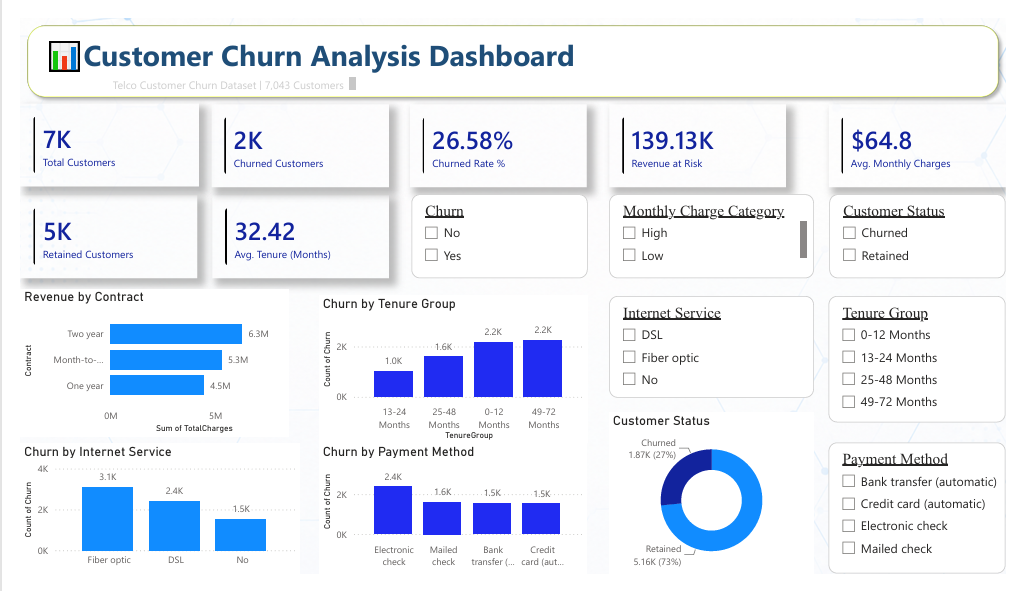

The dashboard page shown, as its layout file describes it:
{"tool":"powerbi","page":{"name":"Page 1","canvas":[1280,720],"ordinal":0},"visuals":[{"type":"shape","box":[0,0,1279.8,110.6],"z":0},{"type":"textbox","box":[28.3,0,707.2,85],"z":1000},{"type":"cardVisual","fields":{"Data":["Telco_Customer_Churn_Cleaned_Final.Total customer"]},"box":[0,110,231.7,108.3],"z":2000},{"type":"cardVisual","fields":{"Data":["Telco_Customer_Churn_Cleaned_Final.Average Monthly Charges"]},"box":[1050,110.6,230.3,108],"z":3000},{"type":"cardVisual","fields":{"Data":["Telco_Customer_Churn_Cleaned_Final.Monthly Revenue at Risk"]},"box":[765.2,110.6,230.3,108],"z":4000},{"type":"cardVisual","fields":{"Data":["Telco_Customer_Churn_Cleaned_Final.Retained Customers"]},"box":[0,229,230,108],"z":5000},{"type":"cardVisual","fields":{"Data":["Telco_Customer_Churn_Cleaned_Final.Churned Rate %"]},"box":[506.1,110.6,230.3,108],"z":6000},{"type":"cardVisual","fields":{"Data":["Telco_Customer_Churn_Cleaned_Final.Churned Customers"]},"box":[248.5,110.6,230.3,108],"z":7000},{"type":"cardVisual","fields":{"Data":["Telco_Customer_Churn_Cleaned_Final.Average Tenure"]},"box":[248.6,229,230,108],"z":8000},{"type":"donutChart","title":"Customer Status","fields":{"Y":["CountNonNull(Telco_Customer_Churn_Cleaned_Final.Churn)"],"Category":["Telco_Customer_Churn_Cleaned_Final.CustomerStatus"]},"box":[764.6,510.8,266.2,209.2],"z":9000},{"type":"columnChart","title":"Churn by Payment Method","fields":{"Category":["Telco_Customer_Churn_Cleaned_Final.PaymentMethod"],"Y":["CountNonNull(Telco_Customer_Churn_Cleaned_Final.Churn)"]},"box":[387.7,550.8,347.7,169.2],"z":10000},{"type":"barChart","title":"Revenue by Contract","fields":{"Category":["Telco_Customer_Churn_Cleaned_Final.Contract"],"Y":["Sum(Telco_Customer_Churn_Cleaned_Final.TotalCharges)"]},"box":[0,350.8,349.2,190.8],"z":11000},{"type":"columnChart","title":"Churn by Tenure Group","fields":{"Category":["Telco_Customer_Churn_Cleaned_Final.TenureGroup"],"Y":["CountNonNull(Telco_Customer_Churn_Cleaned_Final.Churn)"]},"box":[387.7,360,349.2,190.8],"z":12000},{"type":"columnChart","title":"Churn by Internet Service","fields":{"Y":["CountNonNull(Telco_Customer_Churn_Cleaned_Final.Churn)"],"Category":["Telco_Customer_Churn_Cleaned_Final.InternetService"]},"box":[0,550.8,363.1,169.2],"z":13000},{"type":"slicer","fields":{"Values":["Telco_Customer_Churn_Cleaned_Final.Churn"]},"box":[508.3,228.3,228.3,108.3],"z":14000},{"type":"slicer","fields":{"Values":["Telco_Customer_Churn_Cleaned_Final.CustomerStatus"]},"box":[1050.8,227.7,229.2,109.2],"z":15000},{"type":"slicer","fields":{"Values":["Telco_Customer_Churn_Cleaned_Final.PaymentMethod"]},"box":[1050,550,230,170],"z":16000},{"type":"slicer","fields":{"Values":["Telco_Customer_Churn_Cleaned_Final.InternetService"]},"box":[764.6,360,266.2,132.3],"z":17000},{"type":"slicer","fields":{"Values":["Telco_Customer_Churn_Cleaned_Final.TenureGroup"]},"box":[1050.2,360,229.6,164.4],"z":18000},{"type":"slicer","fields":{"Values":["Telco_Customer_Churn_Cleaned_Final.MonthlyChargeCategory"]},"box":[764.6,227.7,266.2,109.2],"z":19000},{"type":"textbox","box":[115.4,70.8,324.6,26.2],"z":20000}]}

Visuals, with their boxes in screenshot pixels (x1, y1, x2, y2), scaled from the page's 1280x720 canvas onto the 1025x591 screenshot:
shape: l=0, t=0, r=1024, b=91
textbox: l=23, t=0, r=589, b=70
cardVisual - Telco_Customer_Churn_Cleaned_Final.Total customer: l=0, t=90, r=186, b=179
cardVisual - Telco_Customer_Churn_Cleaned_Final.Average Monthly Charges: l=841, t=91, r=1024, b=179
cardVisual - Telco_Customer_Churn_Cleaned_Final.Monthly Revenue at Risk: l=613, t=91, r=797, b=179
cardVisual - Telco_Customer_Churn_Cleaned_Final.Retained Customers: l=0, t=188, r=184, b=277
cardVisual - Telco_Customer_Churn_Cleaned_Final.Churned Rate %: l=405, t=91, r=590, b=179
cardVisual - Telco_Customer_Churn_Cleaned_Final.Churned Customers: l=199, t=91, r=383, b=179
cardVisual - Telco_Customer_Churn_Cleaned_Final.Average Tenure: l=199, t=188, r=383, b=277
"Customer Status" donutChart: l=612, t=419, r=825, b=590
"Churn by Payment Method" columnChart: l=310, t=452, r=589, b=590
"Revenue by Contract" barChart: l=0, t=288, r=280, b=445
"Churn by Tenure Group" columnChart: l=310, t=296, r=590, b=452
"Churn by Internet Service" columnChart: l=0, t=452, r=291, b=590
slicer - Telco_Customer_Churn_Cleaned_Final.Churn: l=407, t=187, r=590, b=276
slicer - Telco_Customer_Churn_Cleaned_Final.CustomerStatus: l=841, t=187, r=1024, b=277
slicer - Telco_Customer_Churn_Cleaned_Final.PaymentMethod: l=841, t=451, r=1024, b=590
slicer - Telco_Customer_Churn_Cleaned_Final.InternetService: l=612, t=296, r=825, b=404
slicer - Telco_Customer_Churn_Cleaned_Final.TenureGroup: l=841, t=296, r=1024, b=430
slicer - Telco_Customer_Churn_Cleaned_Final.MonthlyChargeCategory: l=612, t=187, r=825, b=277
textbox: l=92, t=58, r=352, b=80
